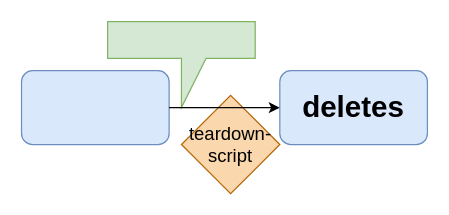
The diagram is 449 pixels wide and 215 high, and some of its shapes have lost their labels. The centre of each missing label's shape, as x and y in pixels:
"client setup" goes at point 180,64.
"inputs" goes at point 94,107.
